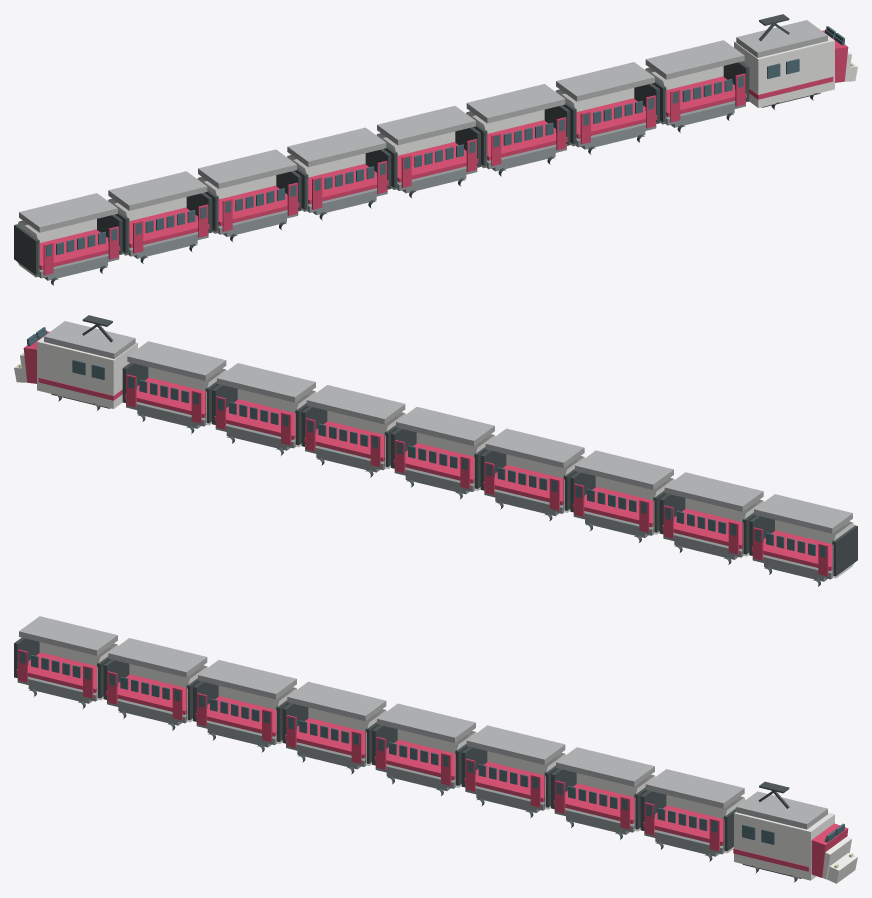
The picture shows the model from 3 angles, top to bottom: view 1: azimuth 30°, elevation 25°; view 2: azimuth 150°, elevation 25°; view 3: azimuth 330°, elevation 25°; orthographic projection.
Parts seen in each view (by area): view 1: body_shell, ic1_car_1_roof, ic1_car_7_roof, ic1_car_3_roof, ic1_car_5_roof, ic1_car_4_roof, ic1_car_2_roof, ic1_car_6_roof, ic1_car_8_roof, roof, ic1_car_4_identity_stripe, ic1_car_1_identity_stripe (+23 smaller); view 2: body_shell, ic1_car_1_roof, ic1_car_7_roof, ic1_car_3_roof, ic1_car_5_roof, ic1_car_4_roof, ic1_car_2_roof, ic1_car_6_roof, ic1_car_8_roof, roof, ic1_car_4_identity_stripe, ic1_car_1_identity_stripe (+23 smaller); view 3: body_shell, ic1_car_3_roof, ic1_car_1_roof, ic1_car_5_roof, ic1_car_7_roof, ic1_car_6_roof, ic1_car_4_roof, ic1_car_8_roof, ic1_car_2_roof, roof, ic1_car_5_identity_stripe, ic1_car_7_identity_stripe (+25 smaller).
Part boxes in pixels (left/top/right/bottom): body_shell: left=734, top=36, right=834, bottom=107; ic1_car_1_roof: left=645, top=40, right=744, bottom=79; ic1_car_7_roof: left=108, top=171, right=207, bottom=210; ic1_car_3_roof: left=466, top=84, right=565, bottom=123; ic1_car_5_roof: left=287, top=127, right=386, bottom=167; ic1_car_4_roof: left=377, top=106, right=475, bottom=145; ic1_car_2_roof: left=556, top=62, right=654, bottom=101; ic1_car_6_roof: left=198, top=149, right=296, bottom=188; ic1_car_8_roof: left=19, top=193, right=117, bottom=232; roof: left=736, top=20, right=827, bottom=57; ic1_car_4_identity_stripe: left=397, top=142, right=478, bottom=182; ic1_car_1_identity_stripe: left=666, top=76, right=746, bottom=116; body_shell: left=37, top=337, right=137, bottom=408; ic1_car_1_roof: left=127, top=341, right=226, bottom=380; ic1_car_7_roof: left=664, top=472, right=763, bottom=511; ic1_car_3_roof: left=306, top=385, right=405, bottom=424; ic1_car_5_roof: left=485, top=428, right=584, bottom=468; ic1_car_4_roof: left=396, top=407, right=494, bottom=446; ic1_car_2_roof: left=217, top=363, right=315, bottom=402; ic1_car_6_roof: left=575, top=450, right=673, bottom=489; ic1_car_8_roof: left=754, top=494, right=852, bottom=533; roof: left=44, top=321, right=135, bottom=358; ic1_car_4_identity_stripe: left=393, top=443, right=474, bottom=483; ic1_car_1_identity_stripe: left=125, top=377, right=205, bottom=417; body_shell: left=734, top=812, right=834, bottom=880; ic1_car_3_roof: left=466, top=725, right=565, bottom=764; ic1_car_1_roof: left=645, top=769, right=744, bottom=808; ic1_car_5_roof: left=287, top=681, right=386, bottom=721; ic1_car_7_roof: left=108, top=638, right=207, bottom=677; ic1_car_6_roof: left=198, top=660, right=296, bottom=699; ic1_car_4_roof: left=377, top=703, right=475, bottom=742; ic1_car_8_roof: left=19, top=616, right=117, bottom=655; ic1_car_2_roof: left=556, top=747, right=654, bottom=786; roof: left=736, top=791, right=827, bottom=829; ic1_car_5_identity_stripe: left=285, top=718, right=365, bottom=758; ic1_car_7_identity_stripe: left=106, top=674, right=186, bottom=714.
Bounding box in the file's own units: 14.17 × 1.32 × 0.791.
